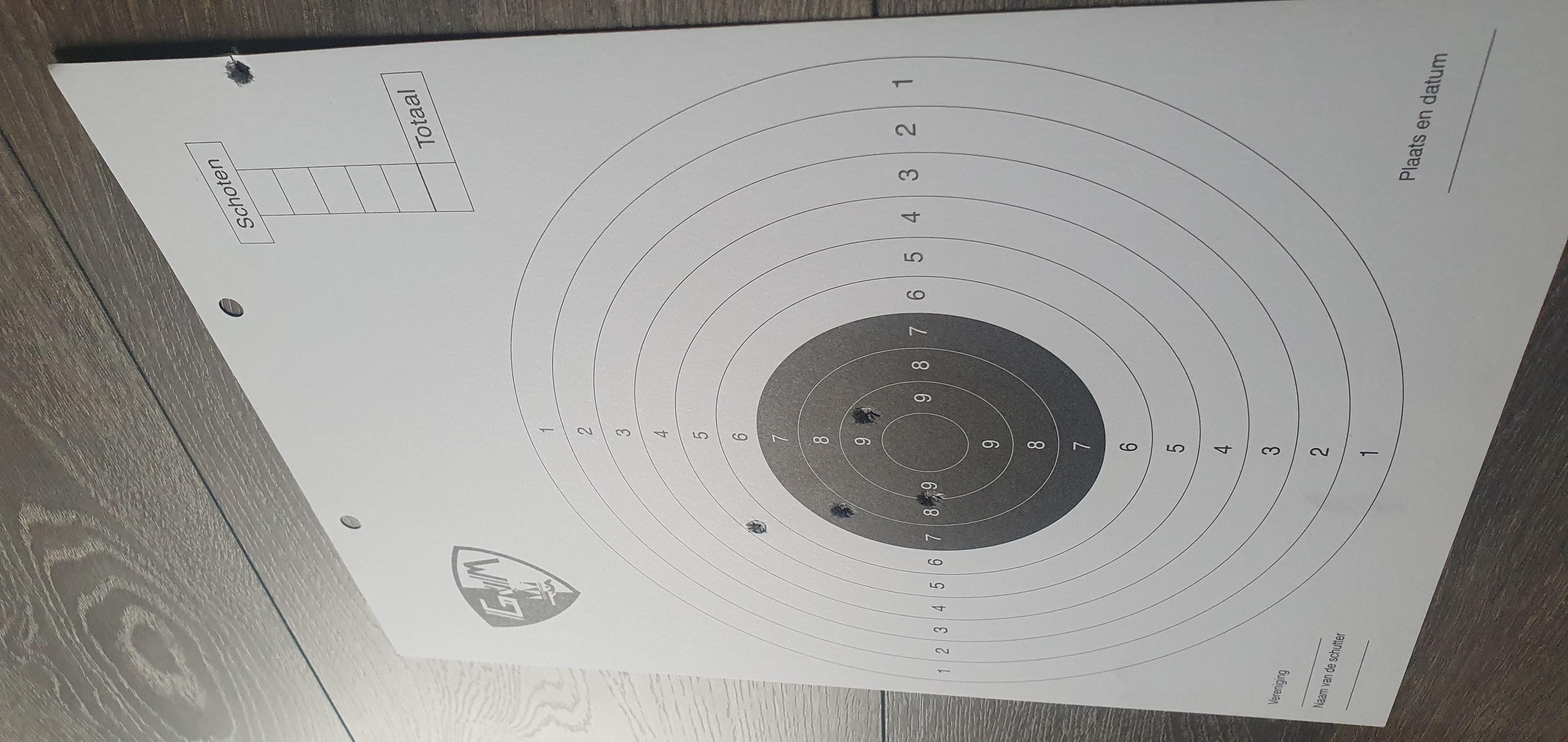hole: (1311, 653, 1348, 686), (686, 312, 719, 341), (712, 220, 741, 244), (623, 231, 653, 253), (798, 204, 825, 228)
